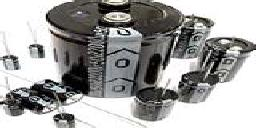Electrolytic Capacitor: (41, 1, 185, 104), (4, 71, 128, 128), (201, 32, 254, 84), (133, 71, 180, 128), (26, 15, 49, 61)
